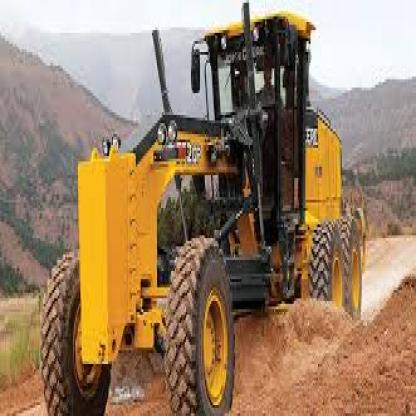bull_dozer/loader/grader: (36, 14, 371, 413)
